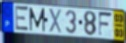3: (64, 10, 78, 35)
8: (83, 10, 98, 37)
E: (15, 4, 30, 33)
F: (98, 11, 114, 38)
M: (29, 7, 46, 33)
X: (48, 8, 63, 35)
